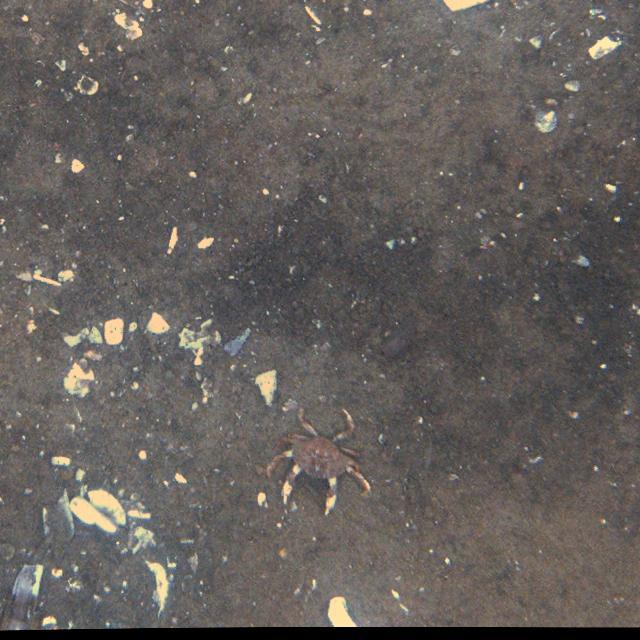crab: (271, 406, 372, 519)
